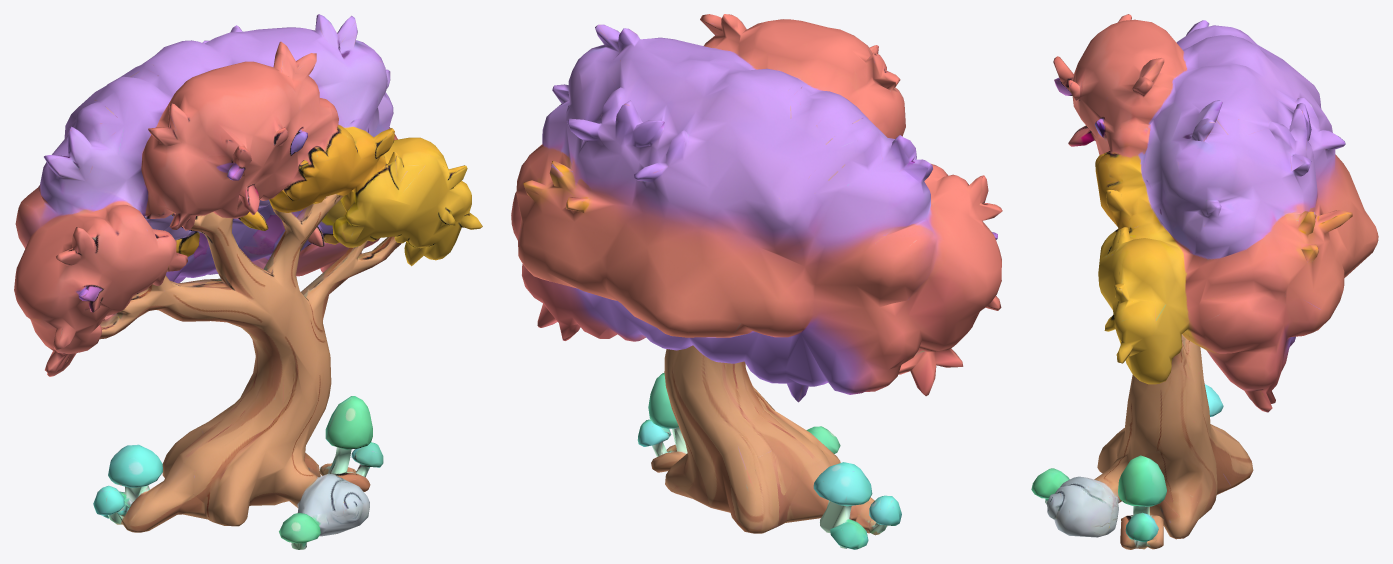
File: static.glb
3 views of the same model, side by side, from view 1: azimuth 30°, elevation 25°; view 2: azimuth 150°, elevation 25°; view 3: azimuth 270°, elevation 25° (orthographic). The views are drawn at different scales.
Visible parts, largest first — view 1: Mesh_0; view 2: Mesh_0; view 3: Mesh_0.
Boxes of the visible parts, bbox=[...] form: Mesh_0: bbox=[14, 14, 482, 549]; Mesh_0: bbox=[511, 14, 1002, 549]; Mesh_0: bbox=[1031, 14, 1378, 549].
Size of the model in its own units: 1.9 by 1.89 by 1.29.
Materials: 1 (1 with a texture image).
